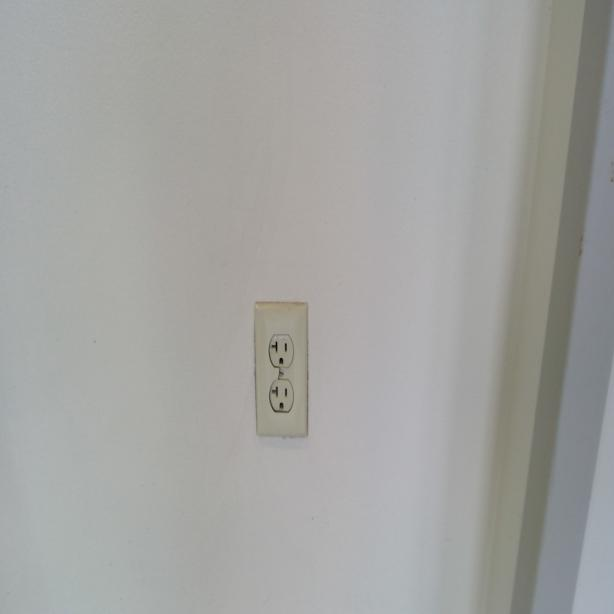typeb: (270, 333, 294, 367), (270, 381, 292, 413)
